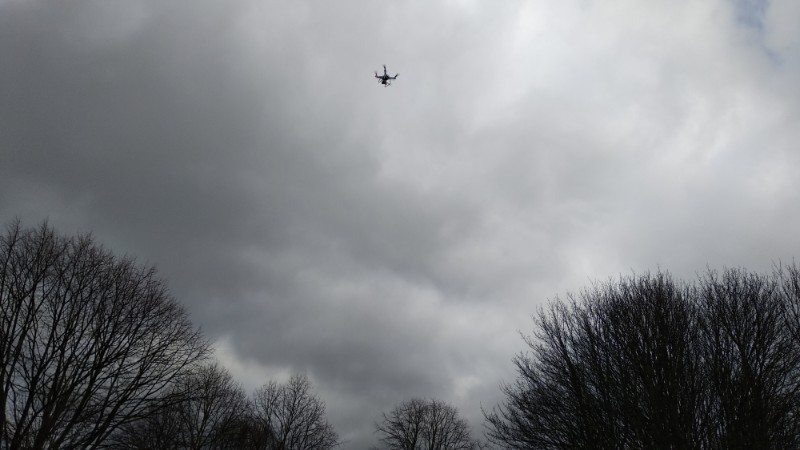drone: (375, 65, 400, 88)
